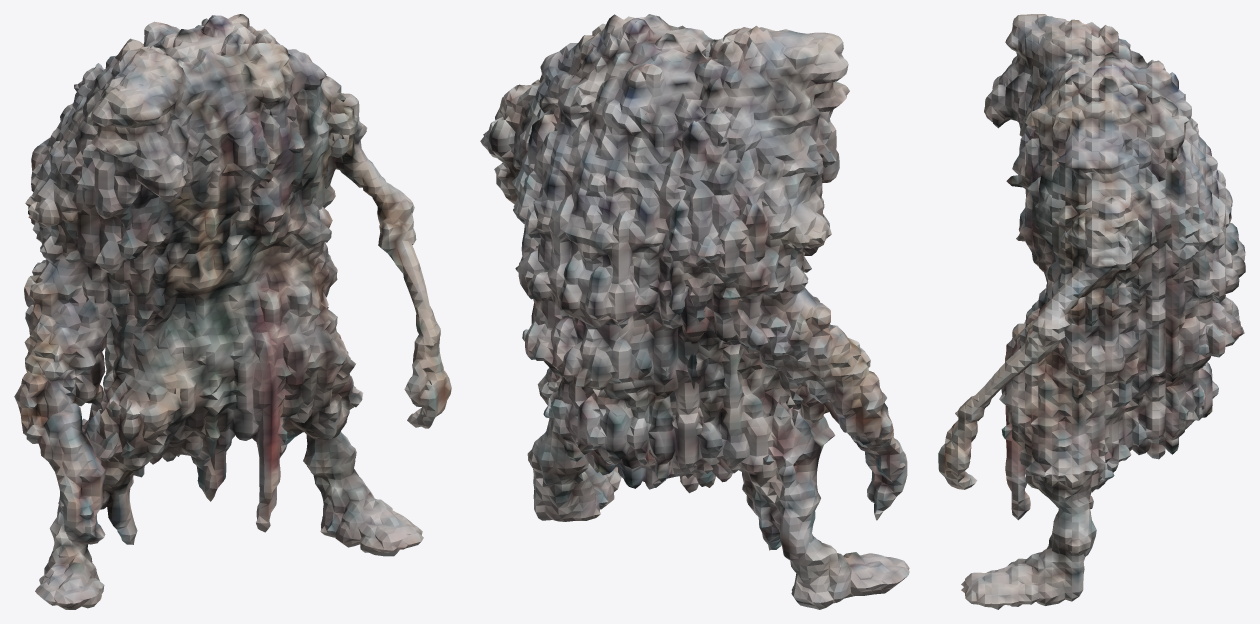
File: husk.glb
3 views of the same model, side by side, from view 1: azimuth 30°, elevation 25°; view 2: azimuth 150°, elevation 25°; view 3: azimuth 270°, elevation 25° (orthographic). The views are drawn at different scales.
Parts seen in each view (by area): view 1: geometry_0; view 2: geometry_0; view 3: geometry_0.
Part boxes in pixels (bbox=[...]): geometry_0: bbox=[14, 14, 451, 609]; geometry_0: bbox=[480, 14, 909, 609]; geometry_0: bbox=[938, 14, 1245, 609].
Bounding box in the file's own units: 0.7215 × 0.9525 × 0.5358.
